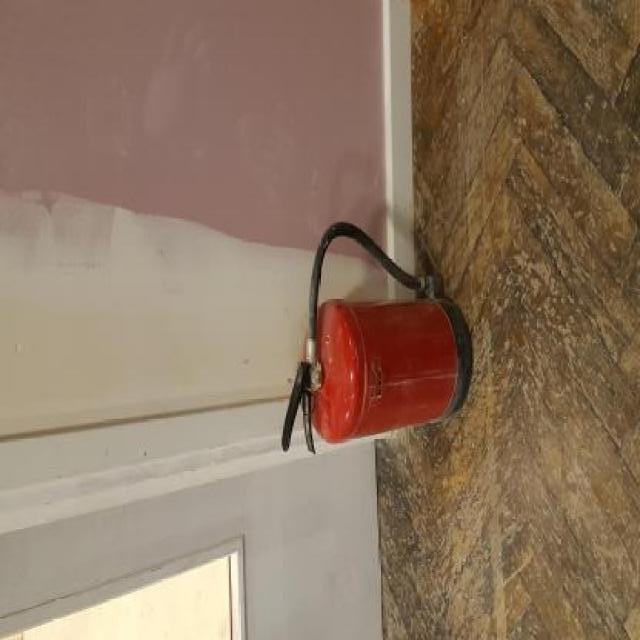fire extinguisher: (282, 221, 473, 457)
